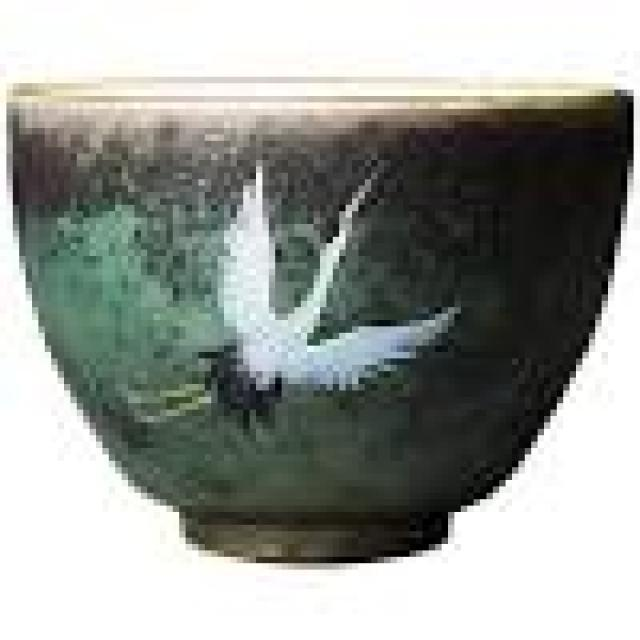taza: (3, 49, 640, 560)
